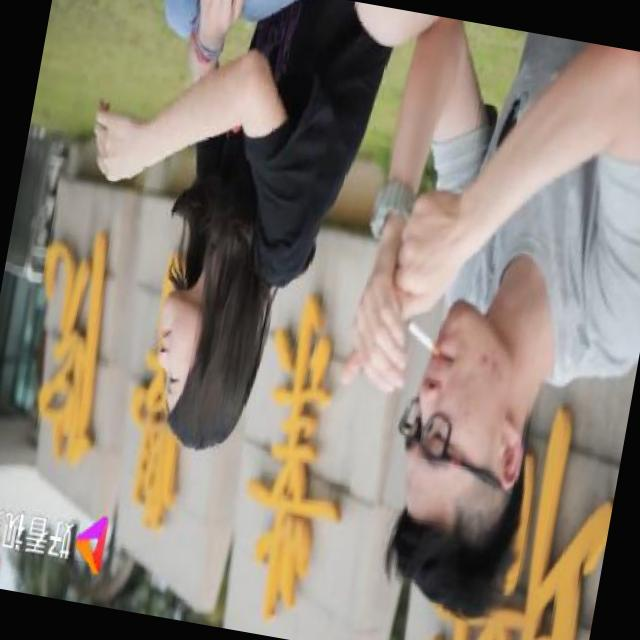cigarette: (394, 308, 449, 369)
